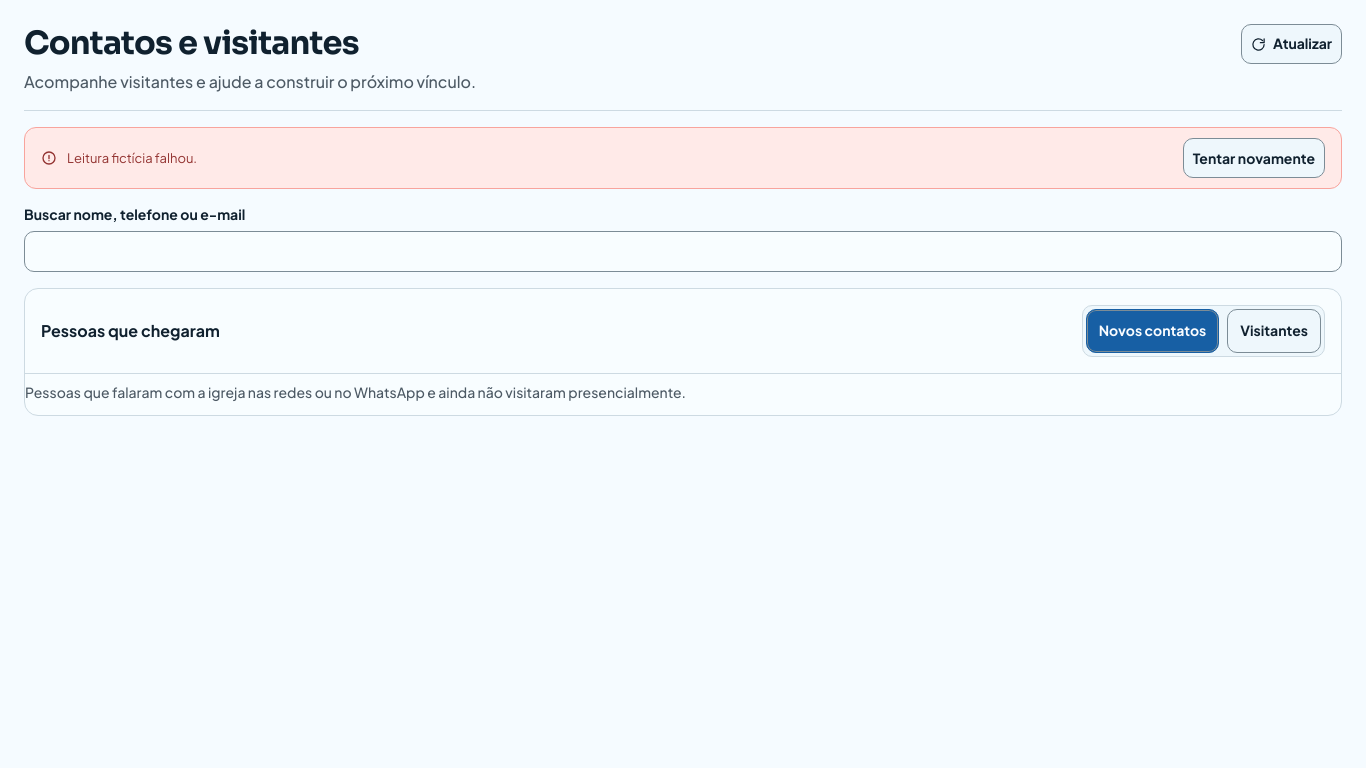
Ganhar, erro de leitura › falha inicial oferece retry e só declara vazio depois de leitura confirmada
Expected: the message "Leitura fictícia falhou. Tentar novamente" is shown, [24,127,1342,189]
Expected: the text "Nenhum" is not shown
Click the button "Tentar novamente".
click(1254, 158)  # box [1183,138,1325,178]
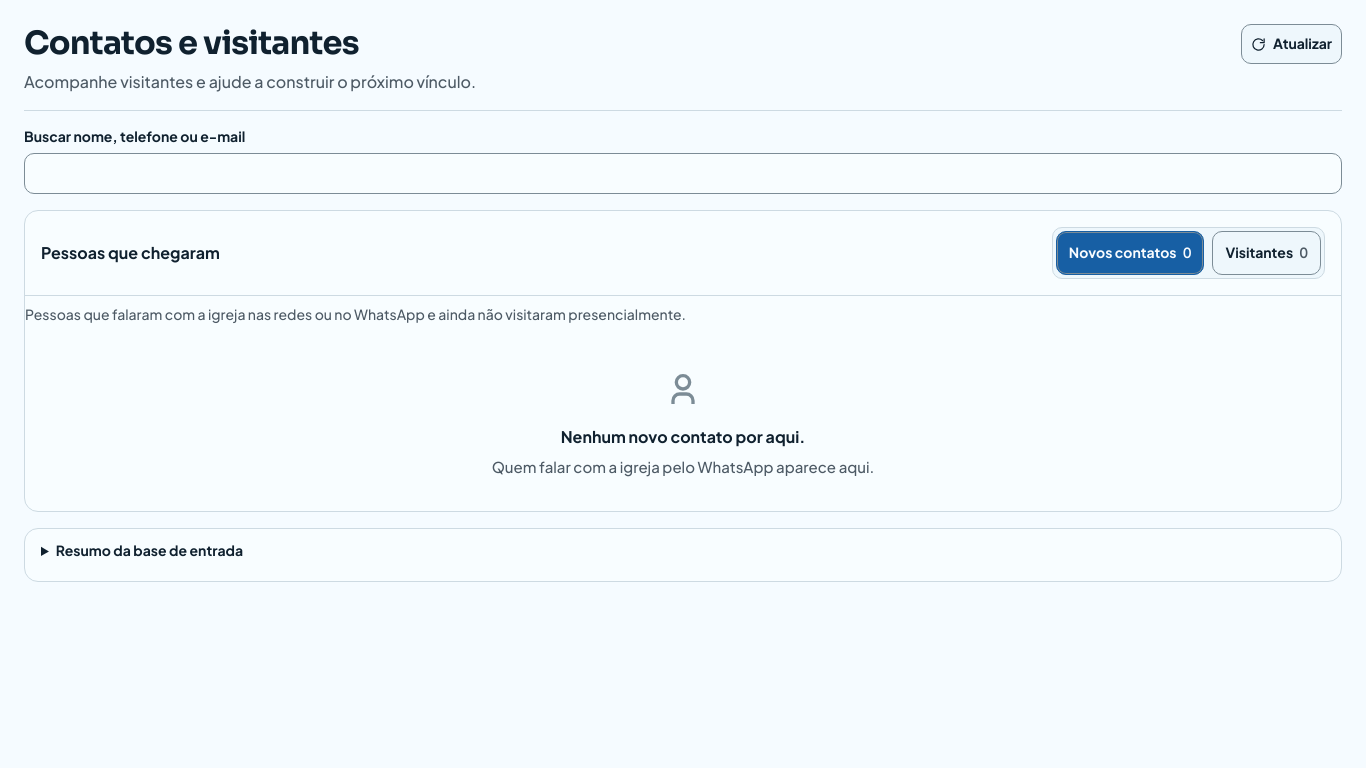
Result: the message "Leitura fictícia falhou. Tentar novamente" is gone
Result: the text "Nenhum novo contato por aqui." is shown at [561,426,805,448]
